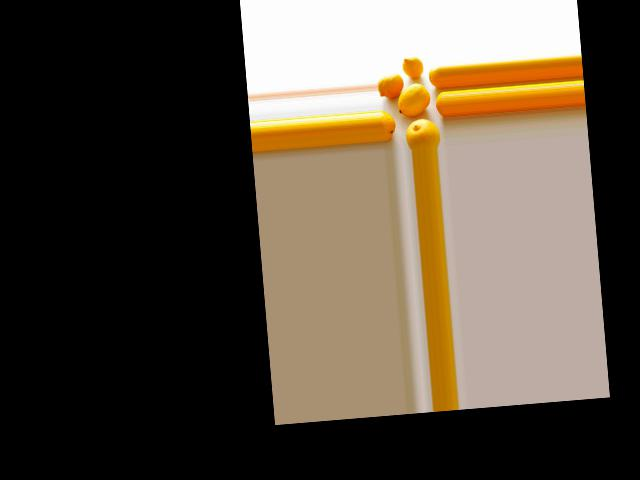lemon: (379, 105, 399, 137)
